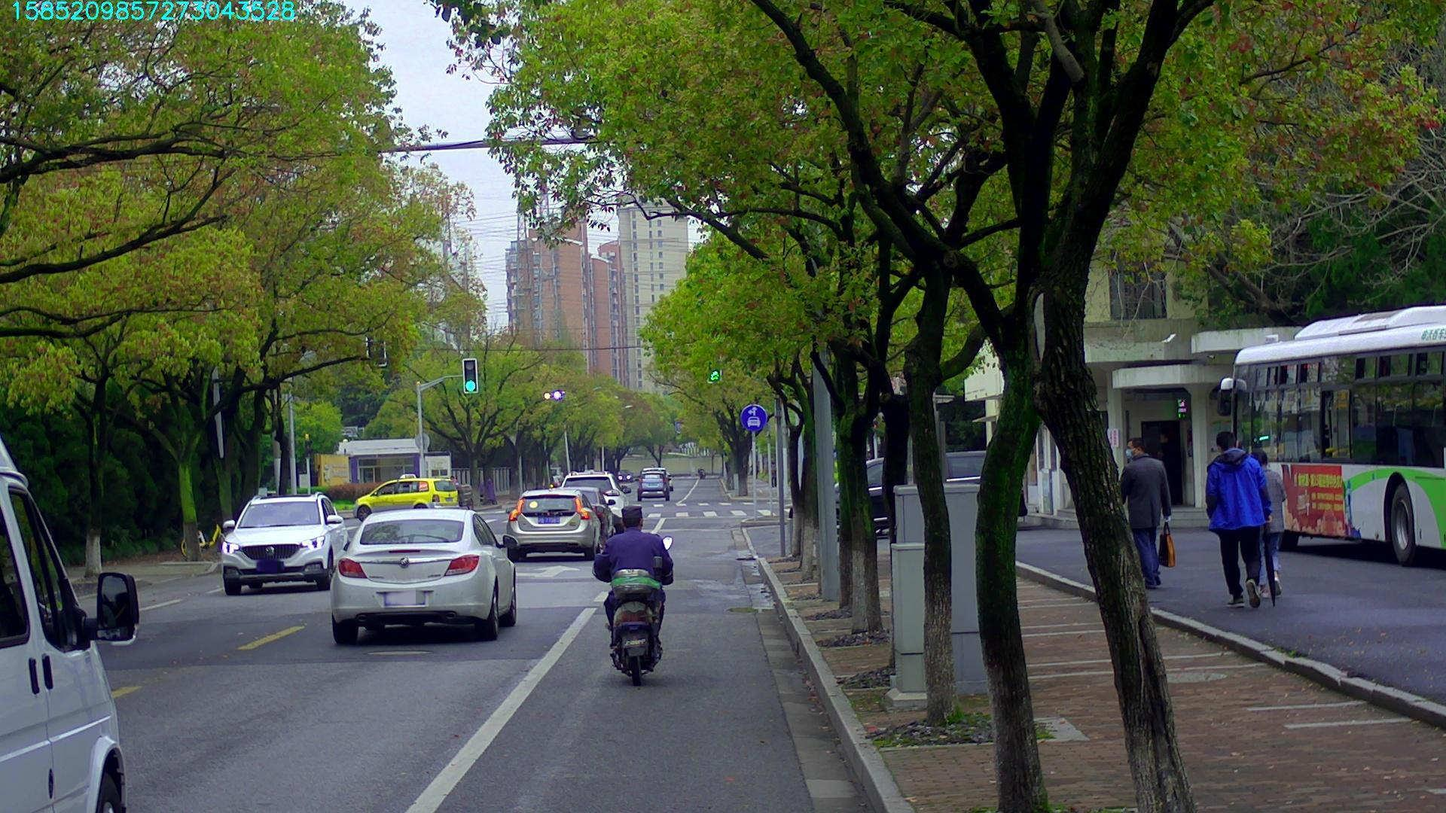green: (707, 345, 721, 382), (462, 358, 476, 391)
